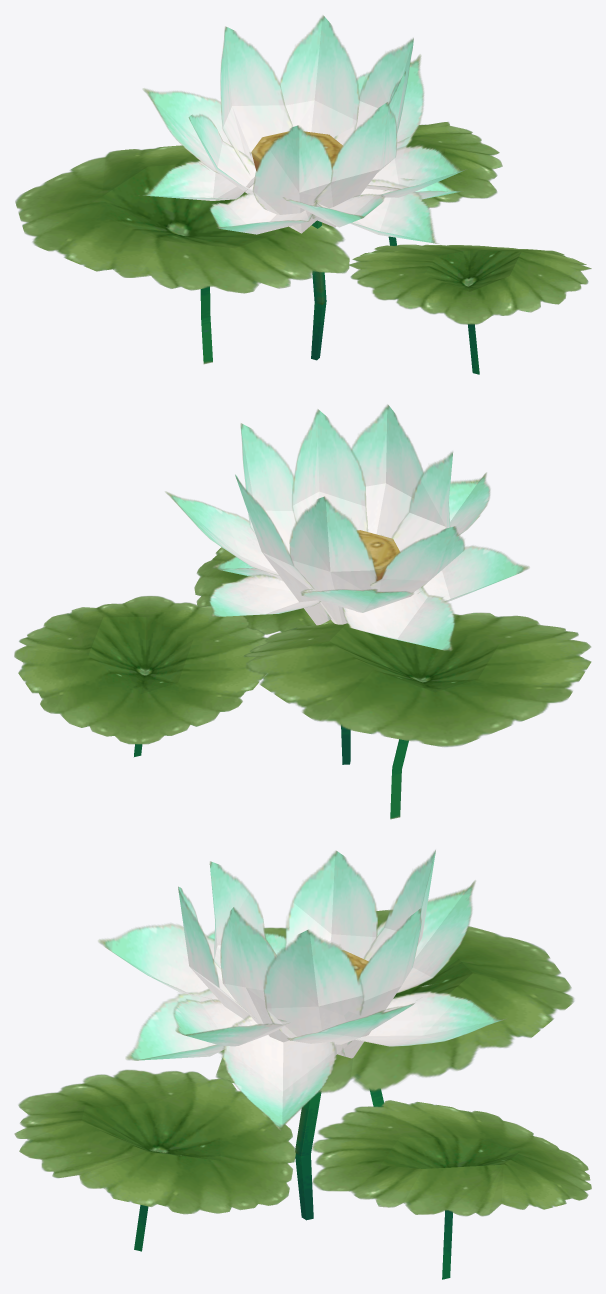
File: lotus.glb
3 renders of one model, top to bottom at view 1: azimuth 30°, elevation 25°; view 2: azimuth 150°, elevation 25°; view 3: azimuth 270°, elevation 25°, orthographic. The views are drawn at different scales.
Visible parts, largest first — view 1: MC_M_10002; view 2: MC_M_10002; view 3: MC_M_10002.
Part boxes in pixels (x1,y1,x2,y2): MC_M_10002: (15,15,591,374); MC_M_10002: (14,404,591,819); MC_M_10002: (14,850,591,1279).
Bounding box in the file's own units: 0.00554 × 0.00342 × 0.00497.
1 material, 1 textured.
